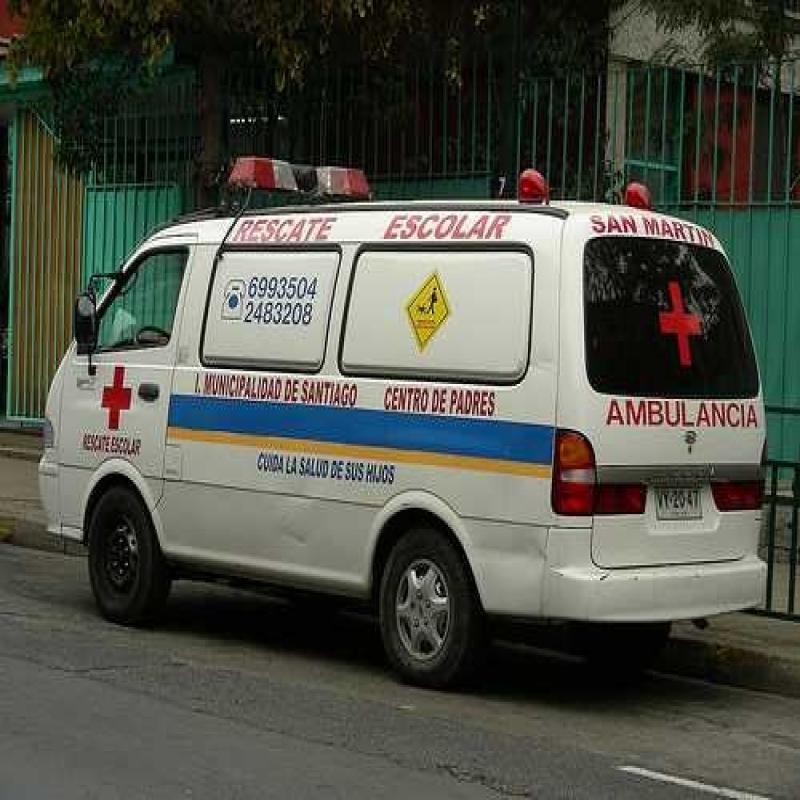AmbulanceSiren: (222, 137, 382, 215), (512, 153, 551, 211)
